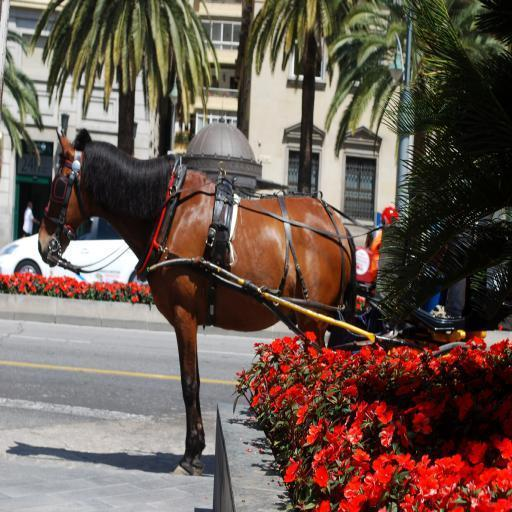horse: (36, 126, 358, 478)
